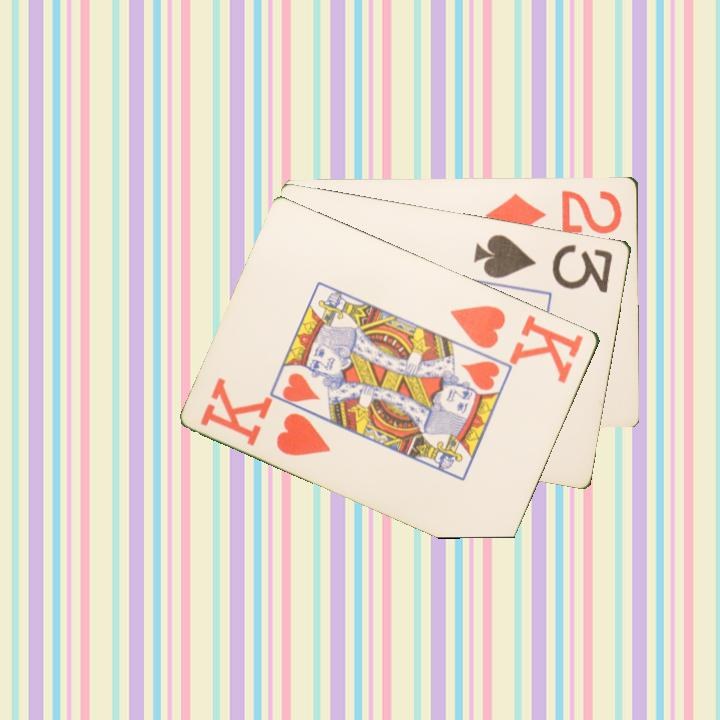2d: (482, 186, 626, 239)
3s: (470, 230, 617, 296)
Kh: (447, 301, 587, 386), (197, 374, 334, 459)
